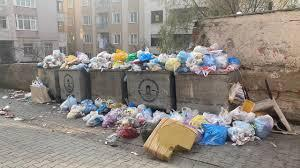Container: (177, 74, 231, 111), (126, 71, 175, 110), (90, 70, 126, 100), (58, 70, 91, 98), (38, 67, 60, 97)
Garbage: (66, 97, 139, 130), (199, 110, 247, 149), (234, 98, 272, 146), (175, 50, 242, 72), (127, 50, 175, 67), (90, 52, 130, 67), (59, 53, 94, 67), (42, 51, 65, 67), (232, 84, 248, 104), (142, 110, 155, 128)
